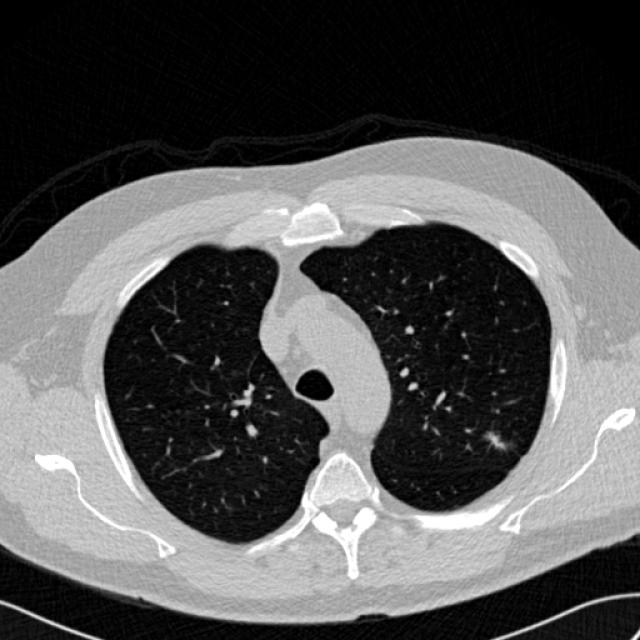nodule: (472, 418, 518, 462)
